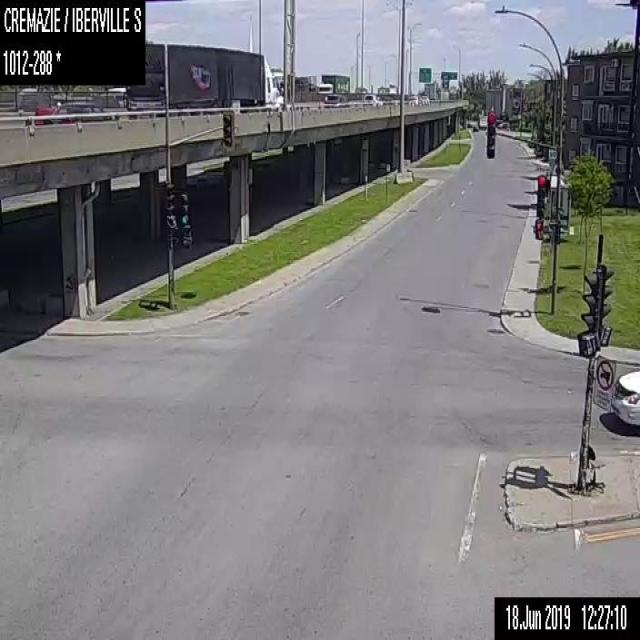vehicle: (125, 43, 284, 118), (611, 369, 639, 427), (43, 102, 111, 123), (15, 87, 64, 109), (317, 73, 350, 99), (99, 86, 125, 106), (323, 93, 349, 107), (361, 92, 383, 106), (423, 82, 438, 100), (477, 114, 486, 130), (409, 95, 422, 105), (420, 94, 430, 104), (472, 123, 478, 130), (467, 120, 472, 127), (291, 72, 292, 73)
